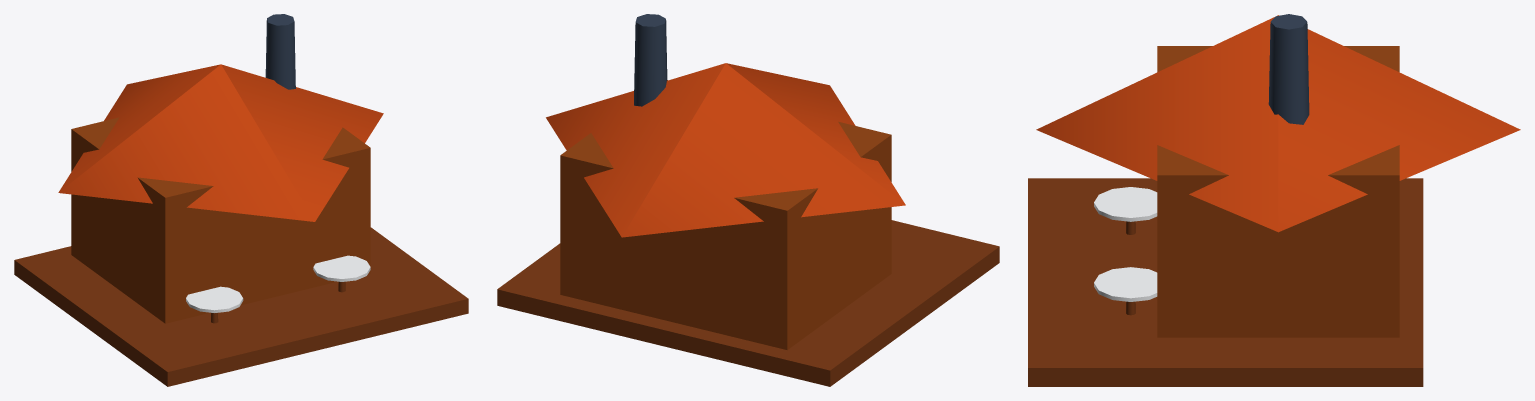
The model's file is baratie_restaurant.glb.
3 renders of one model, left to right at view 1: azimuth 30°, elevation 25°; view 2: azimuth 150°, elevation 25°; view 3: azimuth 270°, elevation 25°, orthographic. The views are drawn at different scales.
Visible parts, largest first — view 1: BaratieRestaurant; view 2: BaratieRestaurant; view 3: BaratieRestaurant.
Boxes of the visible parts, x1,y1,x2,y2 form: BaratieRestaurant: (14, 14, 468, 386); BaratieRestaurant: (497, 14, 999, 386); BaratieRestaurant: (1028, 14, 1520, 386).
Size of the model in its own units: 9.2 by 6.5 by 9.35.
